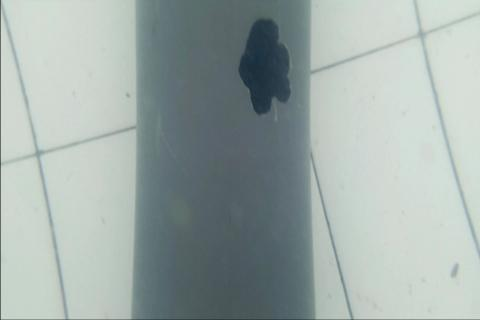kebocoran: (237, 17, 291, 117)
